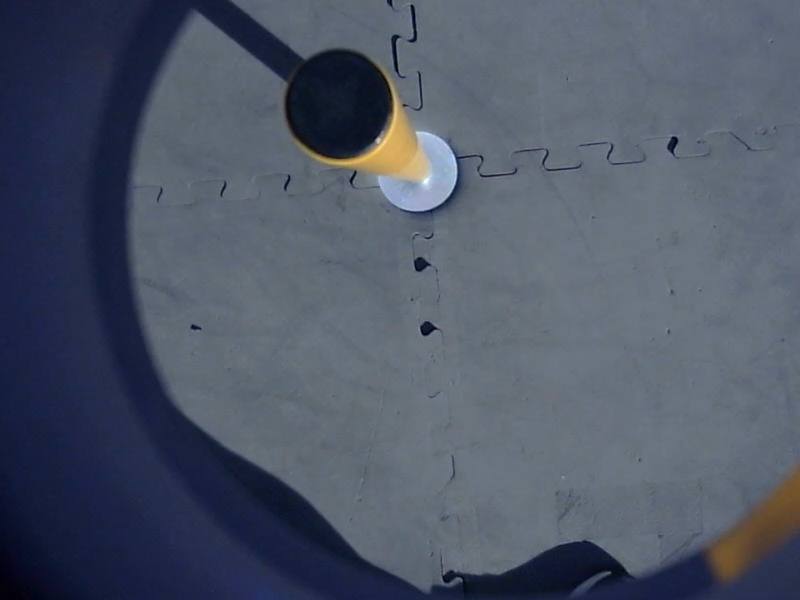tip: (272, 43, 404, 170)
